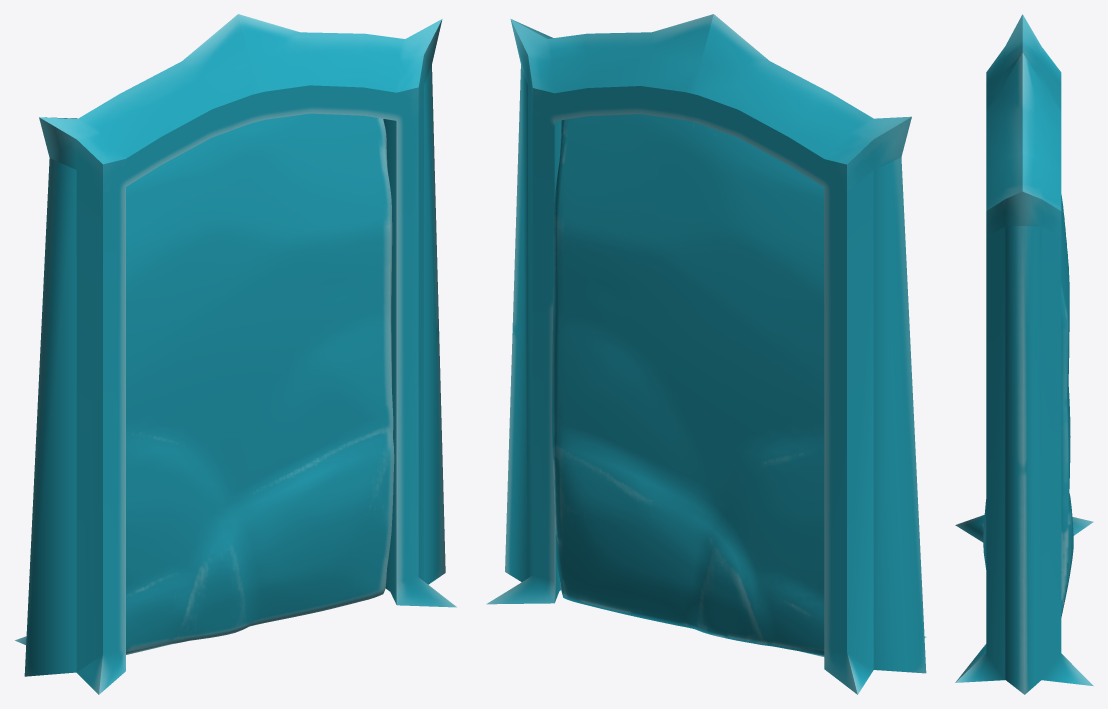
File: Ice_Door.fbx
3 views of the same model, side by side, from view 1: azimuth 30°, elevation 25°; view 2: azimuth 150°, elevation 25°; view 3: azimuth 270°, elevation 25° (orthographic). The views are drawn at different scales.
Visible parts, largest first — view 1: PM3D_Ice_DooRETOP:default1, pCube1; view 2: PM3D_Ice_DooRETOP:default1, pCube1; view 3: pCube1, PM3D_Ice_DooRETOP:default1.
Boxes of the visible parts, x1,y1,x2,y2 form: PM3D_Ice_DooRETOP:default1: [126, 113, 394, 654]; pCube1: [15, 14, 456, 694]; PM3D_Ice_DooRETOP:default1: [552, 114, 824, 656]; pCube1: [486, 14, 926, 694]; pCube1: [955, 14, 1093, 694]; PM3D_Ice_DooRETOP:default1: [983, 194, 1073, 617].
Size of the model in its own units: 2.39 by 3.3 by 0.7549.
2 materials, 2 textured.
